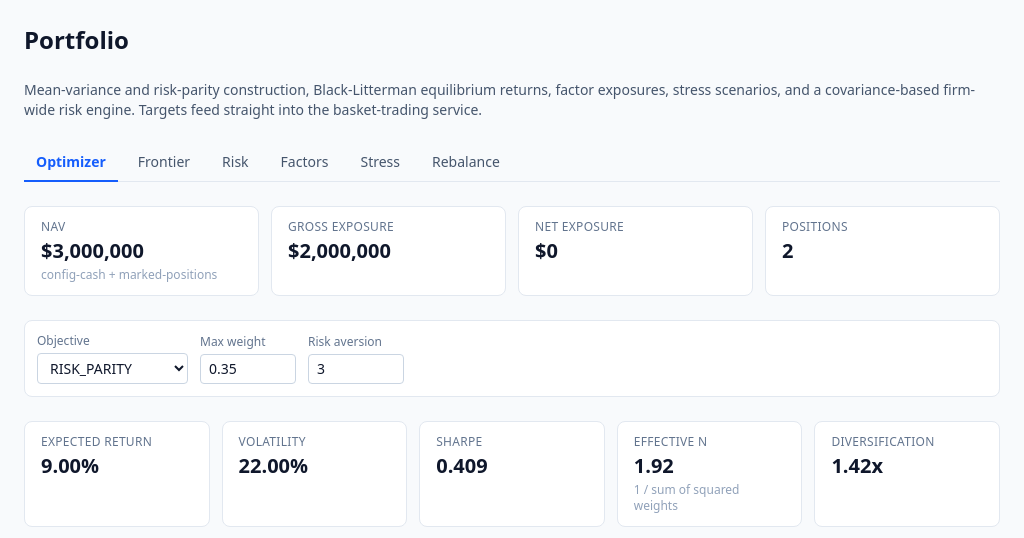
Portfolio page › renders factor exposures and surfaces model notes
What coordinates should you click on to do the following:
click the button with test id "tab-factors"
I would click on:
 (305, 163)
Its box is [269, 144, 340, 182].
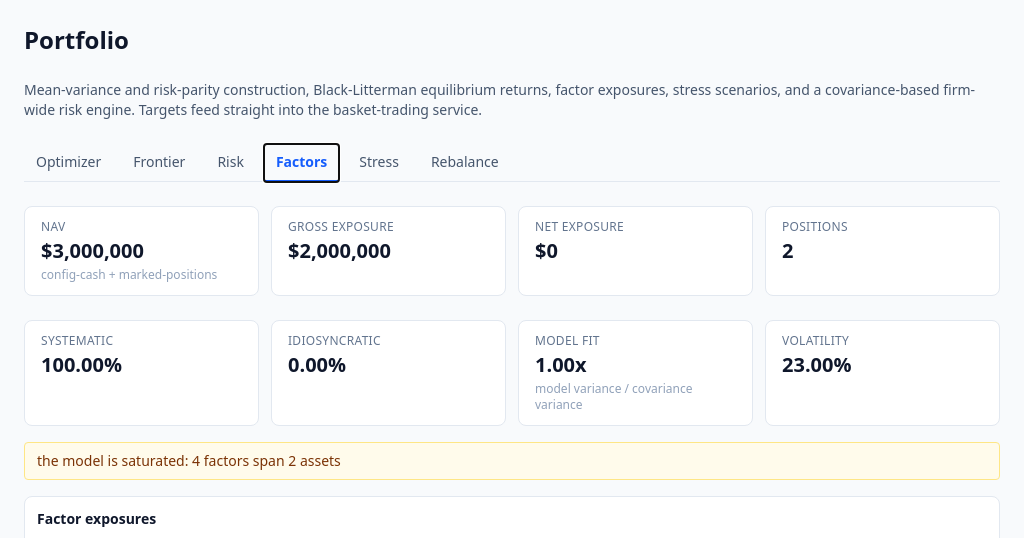
Expected: the element with test id "factor-notes" shows "saturated", [37, 451, 341, 470]
